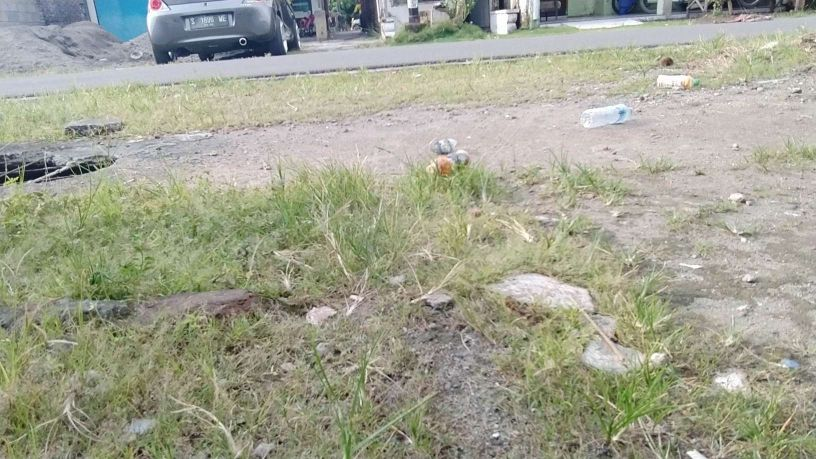botol: (423, 135, 479, 187), (578, 97, 634, 135), (651, 66, 706, 99)
